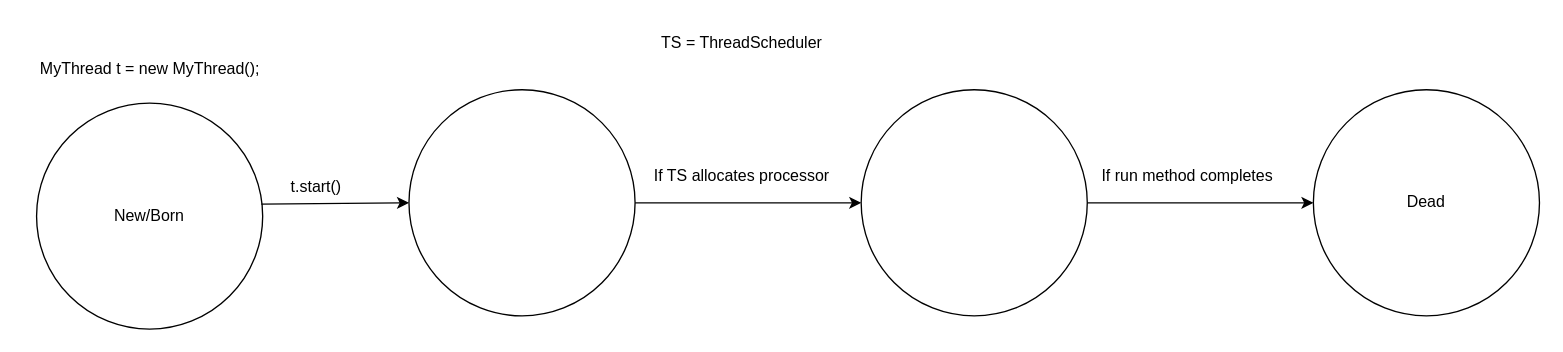
Image size: 1563x352. Some labels were removed from this diagram. The centre of each missing label's shape, as x and y in pixels:
"Ready/Runnable" goes at (521,202).
"Running" goes at (973,202).
